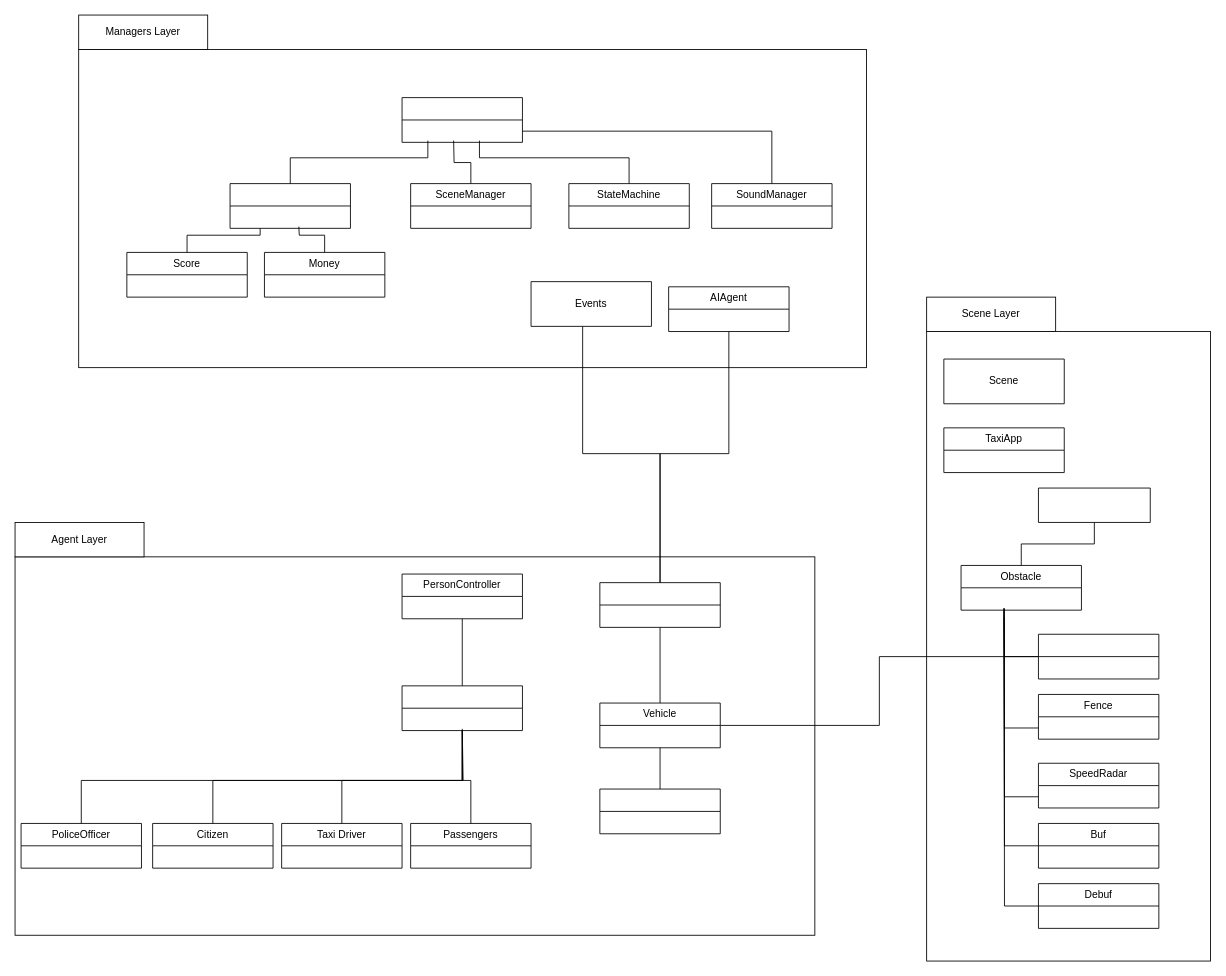
This 1226x976 diagram has some shape labels left out. Here are the shapes that lost their labels. From the top down, the box of each, then its label:
(401, 97, 522, 142): GameManager
(229, 183, 350, 228): DataManager
(1038, 487, 1150, 522): ObstacleFactory
(599, 582, 720, 627): VehicleController
(1038, 633, 1159, 679): PoliceCar
(401, 685, 522, 731): Person
(599, 788, 720, 834): Taxi
